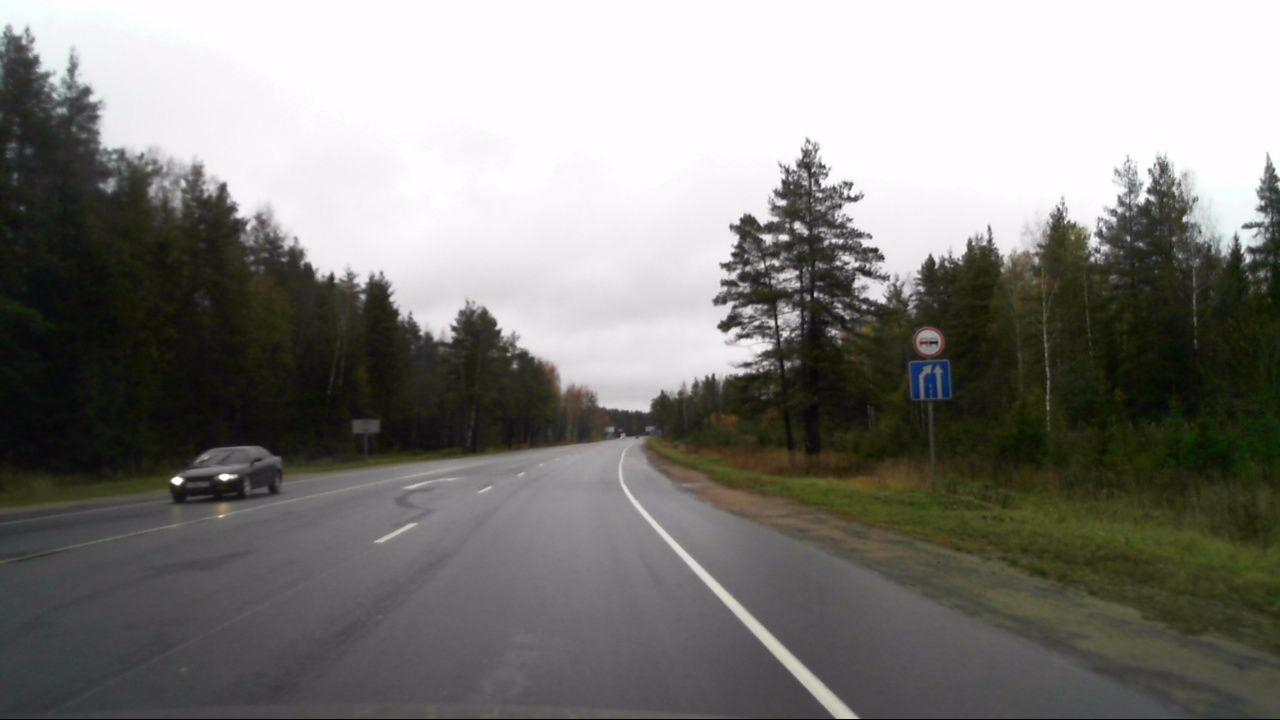3_20: (911, 328, 945, 355)
5_15_6: (905, 357, 951, 401)
